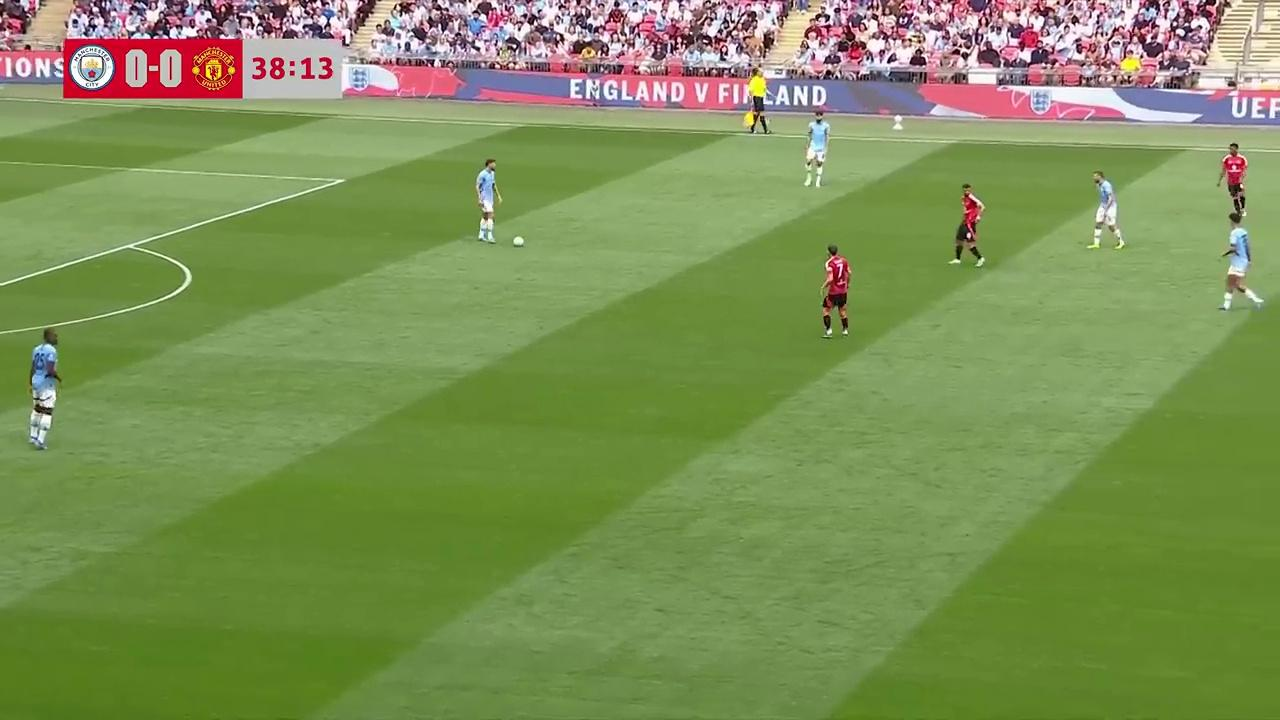ball: (512, 233, 525, 248)
player: (1216, 216, 1264, 312), (27, 327, 62, 450), (1087, 170, 1124, 250), (820, 245, 851, 338), (951, 184, 985, 267), (474, 158, 502, 242), (1218, 142, 1247, 219), (804, 108, 827, 187)
referee: (746, 77, 769, 135)
